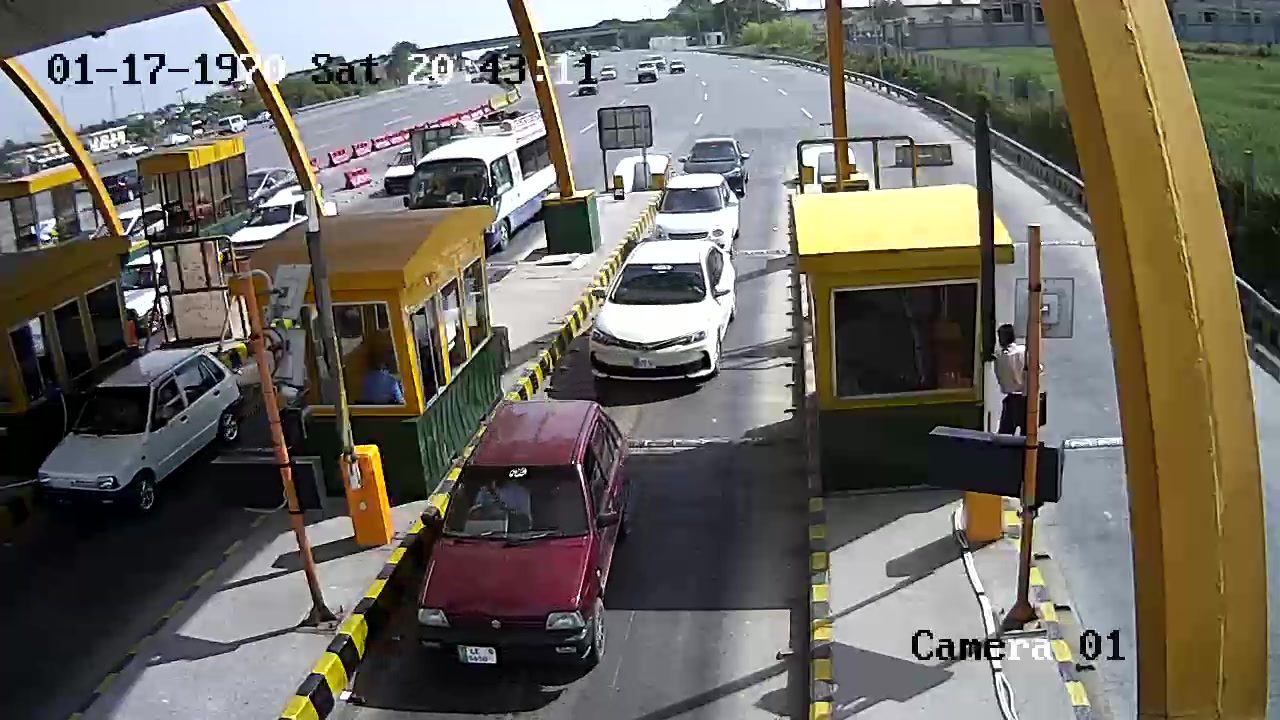F1: (412, 391, 641, 687), (581, 238, 746, 403)
